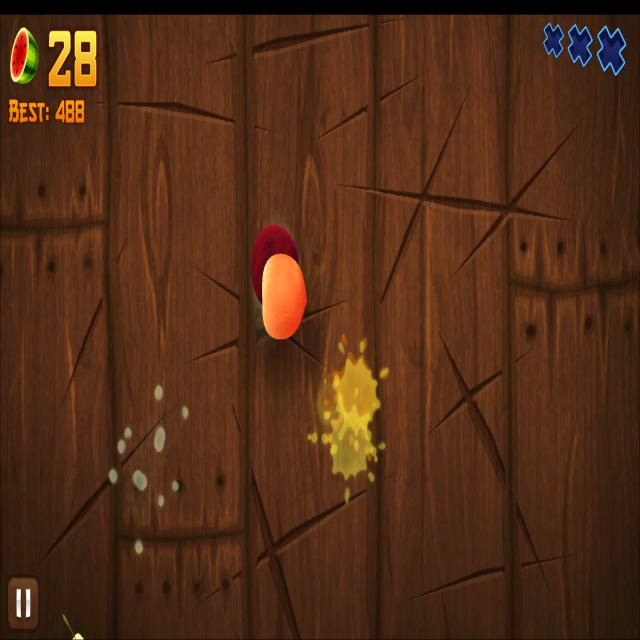fruit: (262, 253, 308, 340), (250, 223, 298, 305)
